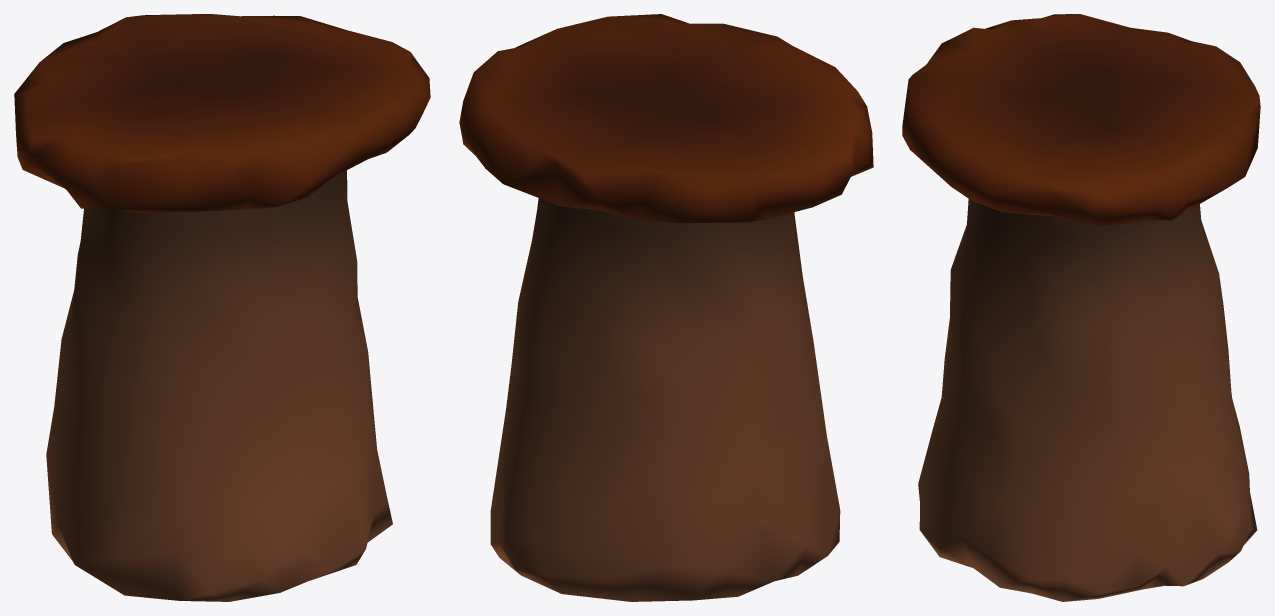
Rendered from msh_Table_Stool_01.fbx.
3 renders of one model, left to right at view 1: azimuth 30°, elevation 25°; view 2: azimuth 150°, elevation 25°; view 3: azimuth 270°, elevation 25°, orthographic. The views are drawn at different scales.
Visible parts, largest first — view 1: table-stool1; view 2: table-stool1; view 3: table-stool1.
Boxes of the visible parts, bbox=[...] form: table-stool1: bbox=[14, 14, 430, 601]; table-stool1: bbox=[459, 14, 873, 601]; table-stool1: bbox=[902, 14, 1260, 601].
Size of the model in its own units: 0.9338 by 1.09 by 0.7878.
